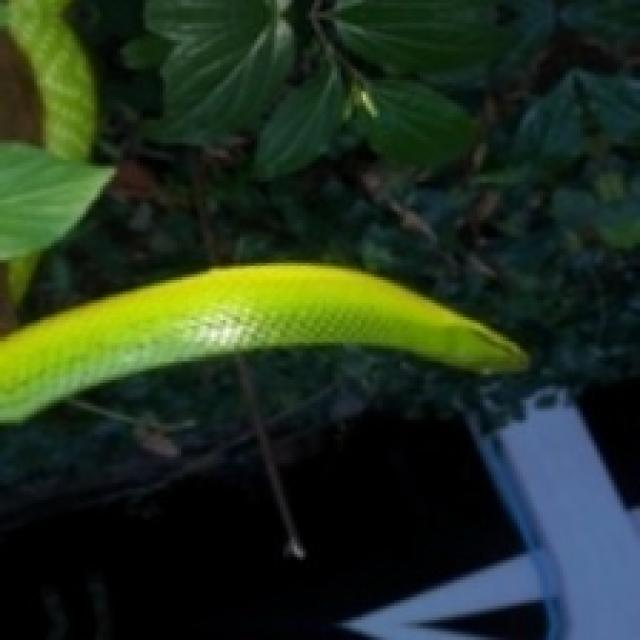red-tailed green ratsnake: (0, 263, 526, 420), (9, 0, 98, 159)
